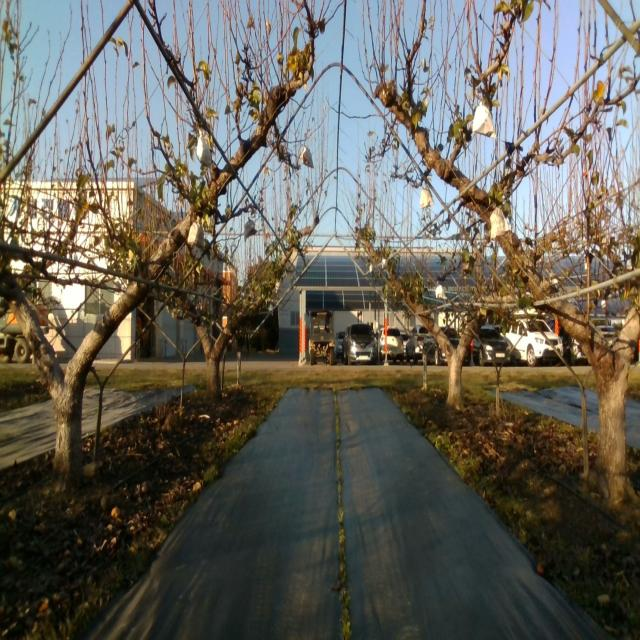pearbags: (471, 102, 498, 143), (489, 207, 508, 241), (187, 213, 205, 247), (196, 127, 211, 167), (419, 188, 434, 209), (244, 217, 257, 241), (301, 146, 314, 168)
